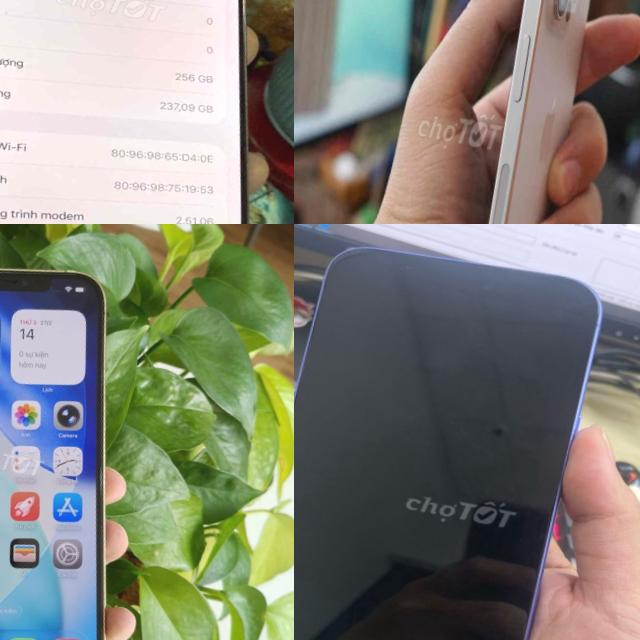scratch: (472, 272, 506, 303), (394, 262, 428, 277)
